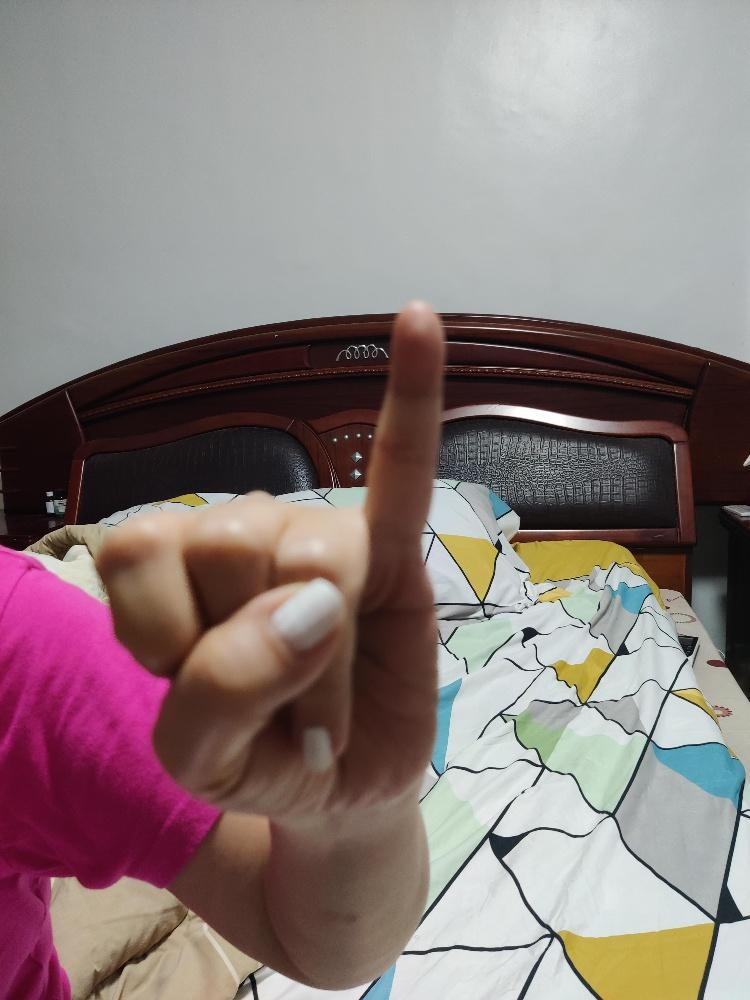i: (90, 299, 448, 825)
